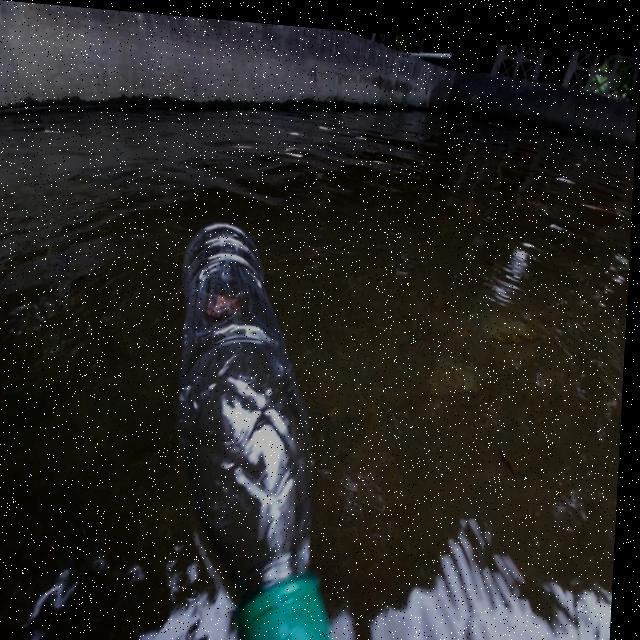waterbottle: (141, 199, 361, 640)
